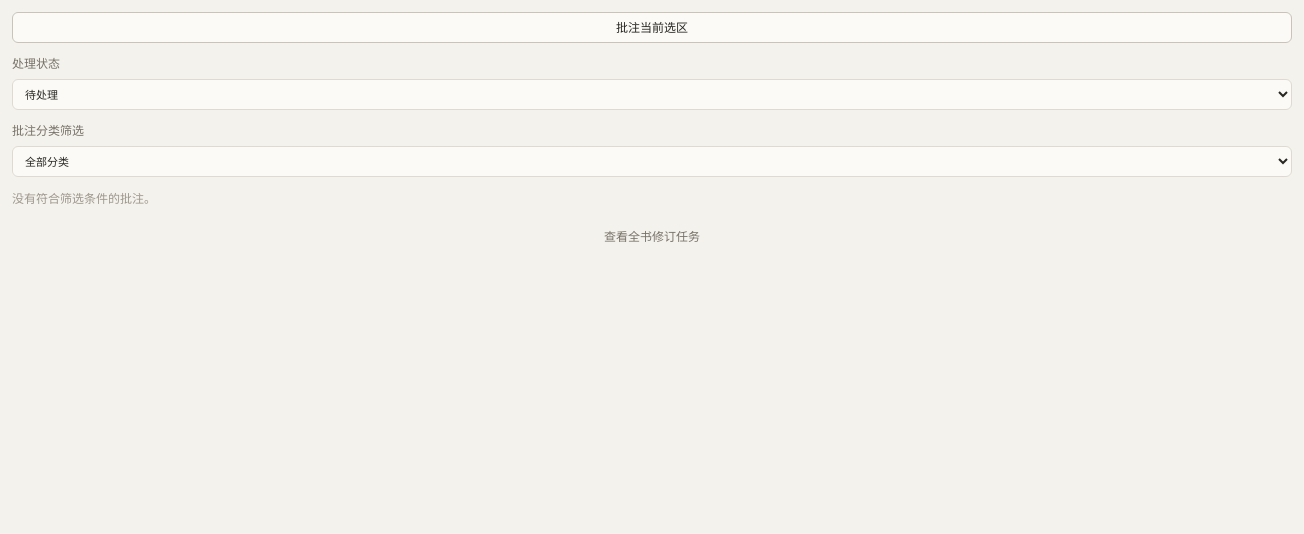
creates a selection annotation and filters resolved tasks without editing the manuscript
The width and height of the screenshot is (1304, 534).
Click the button "批注当前选区" at coordinates (652, 28), box top-left (12, 12), bottom-right (1292, 43)
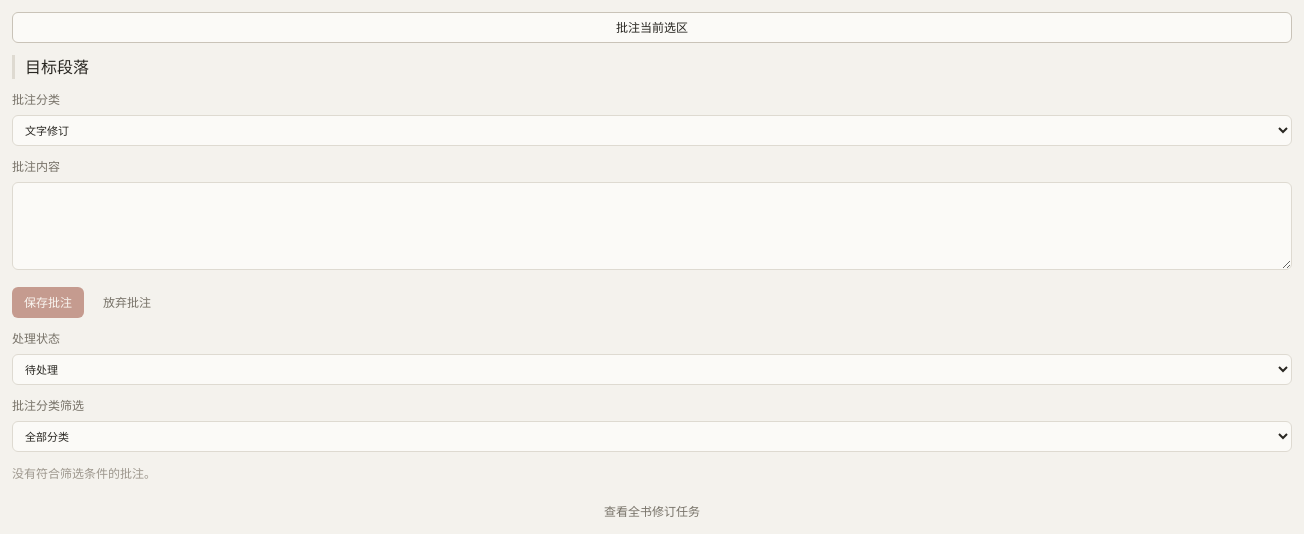
Type "核对人物在此处知道的线索" into the text box labelled "批注内容" at coordinates (652, 226), box top-left (12, 182), bottom-right (1292, 270)
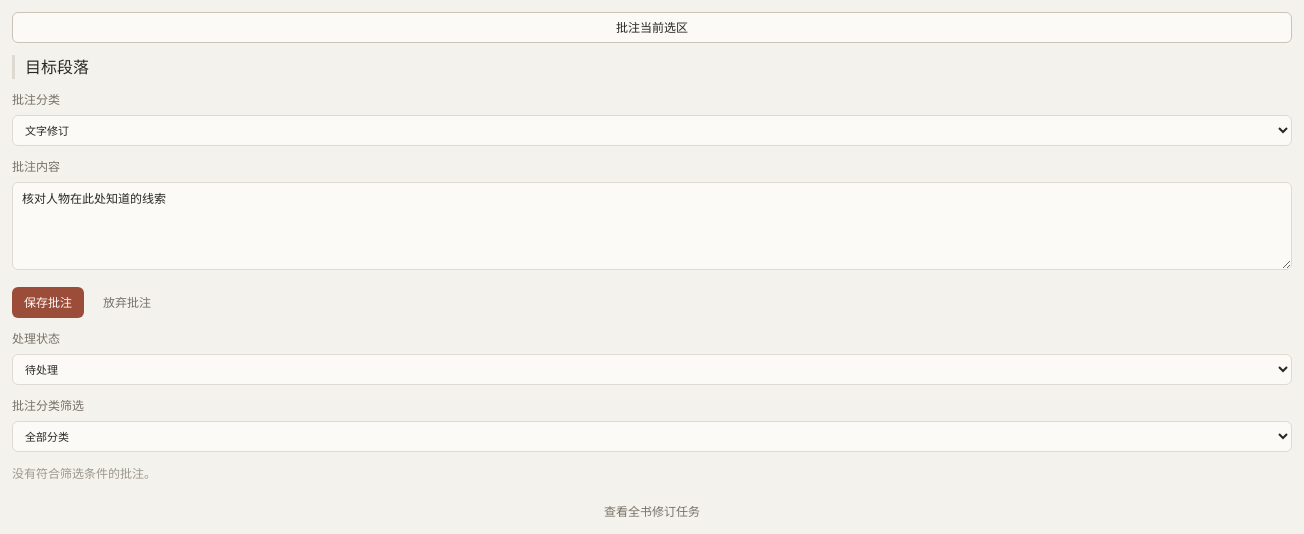
Click the button "保存批注" at coordinates (48, 302), box top-left (12, 287), bottom-right (84, 318)
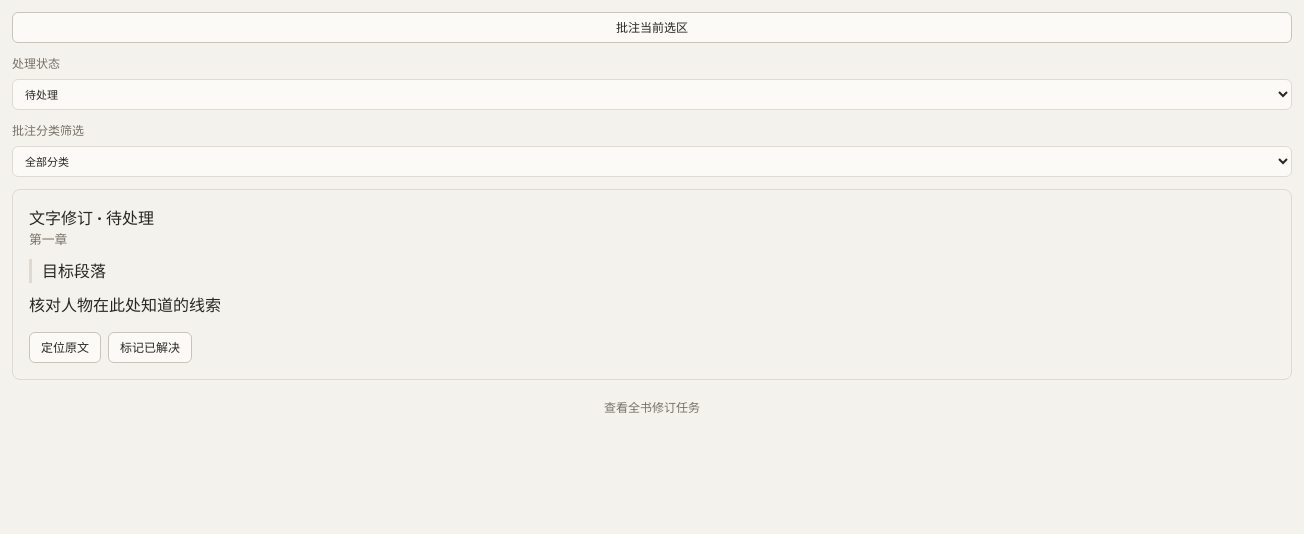
Expected: the button "标记已解决" is shown
Click the button "标记已解决" at coordinates (150, 348), box top-left (108, 332), bottom-right (192, 363)
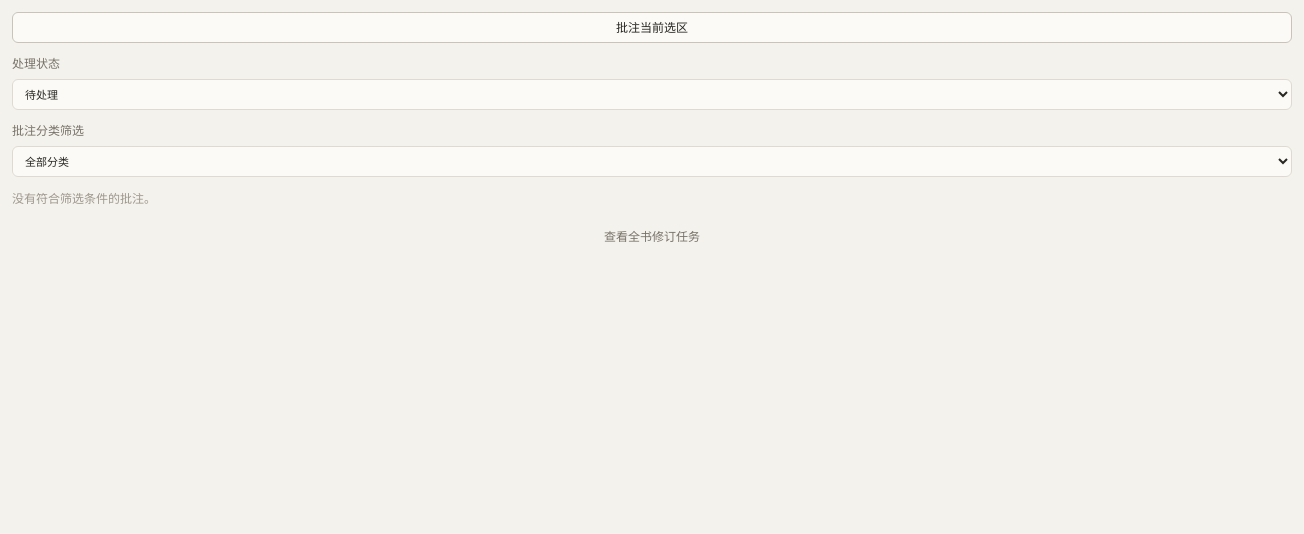
Expected: the button "标记已解决" is gone
Select "已解决" in the dropdown labelled "处理状态" at coordinates (652, 94), box top-left (12, 79), bottom-right (1292, 110)
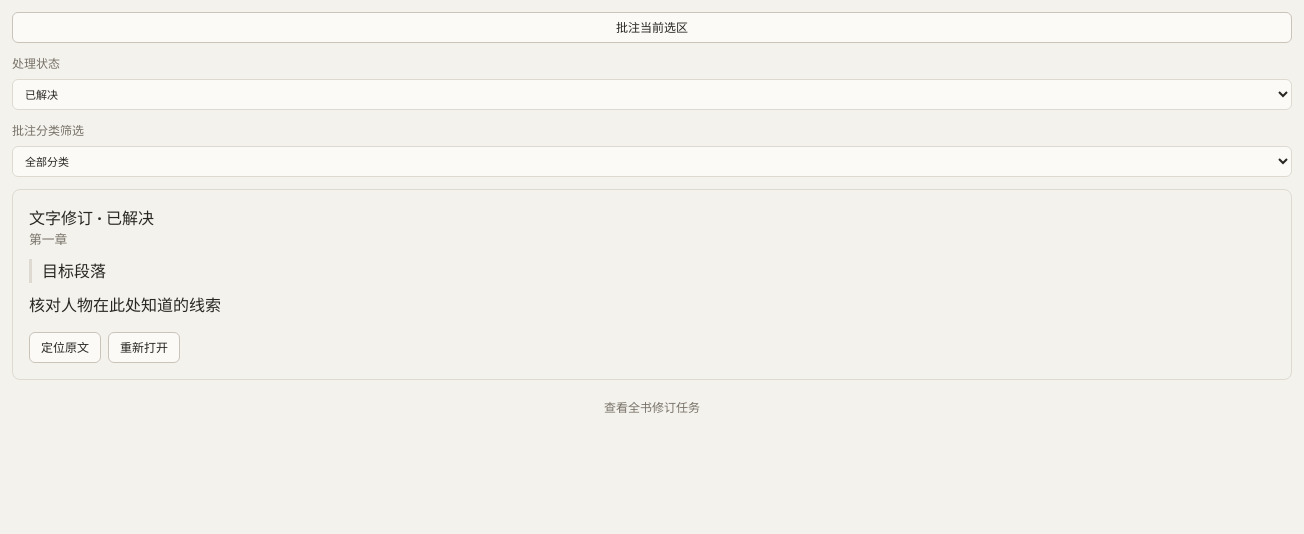
Expected: the button "重新打开" is shown, top-left (108, 332), bottom-right (180, 363)
